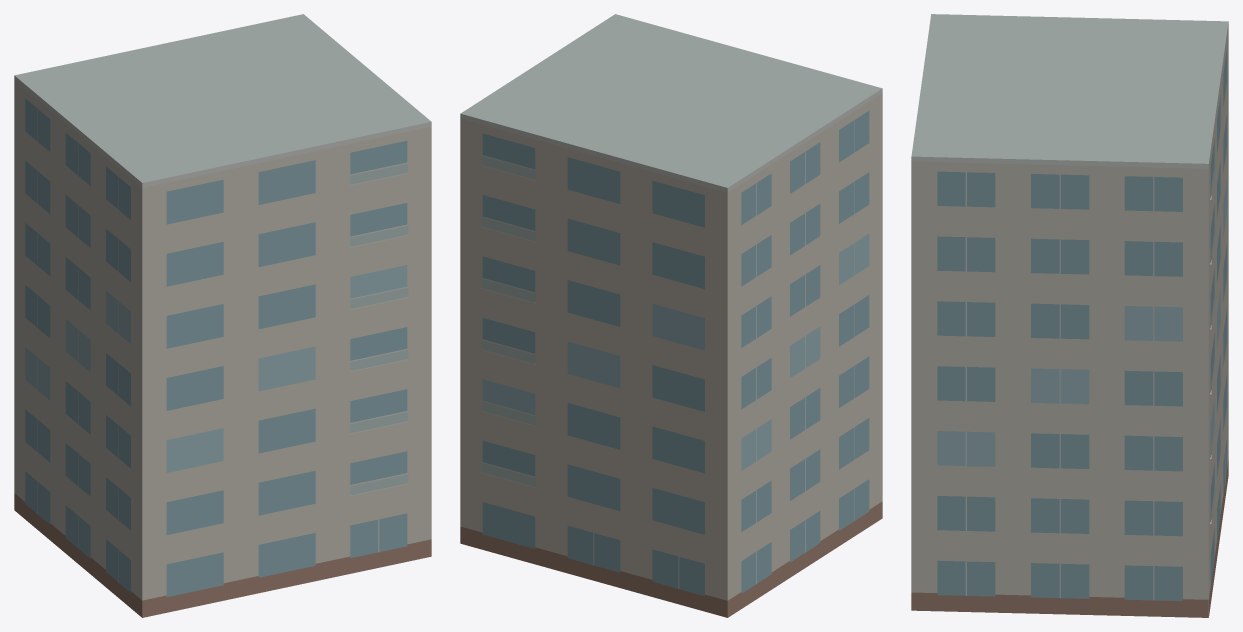
File: survey-upis-33020191.glb
3 renders of one model, left to right at view 1: azimuth 30°, elevation 25°; view 2: azimuth 150°, elevation 25°; view 3: azimuth 270°, elevation 25°, orthographic. The views are drawn at different scales.
Parts seen in each view (by area): view 1: survey-upis-33020191.tmp; view 2: survey-upis-33020191.tmp; view 3: survey-upis-33020191.tmp.
Part boxes in pixels (left/top/right/bottom): survey-upis-33020191.tmp: left=14, top=14, right=431, bottom=617; survey-upis-33020191.tmp: left=460, top=14, right=882, bottom=617; survey-upis-33020191.tmp: left=911, top=14, right=1228, bottom=617.
Bounding box in the file's own units: 15.51 × 21.9 × 13.87.
